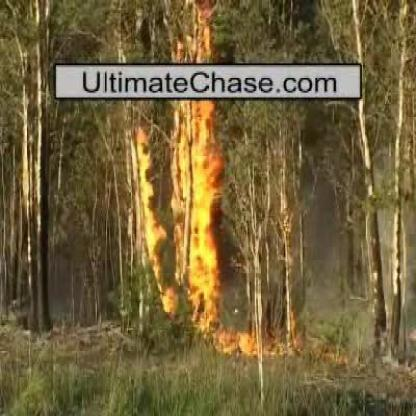fire: (162, 9, 233, 354), (128, 124, 175, 321), (214, 317, 298, 364)
